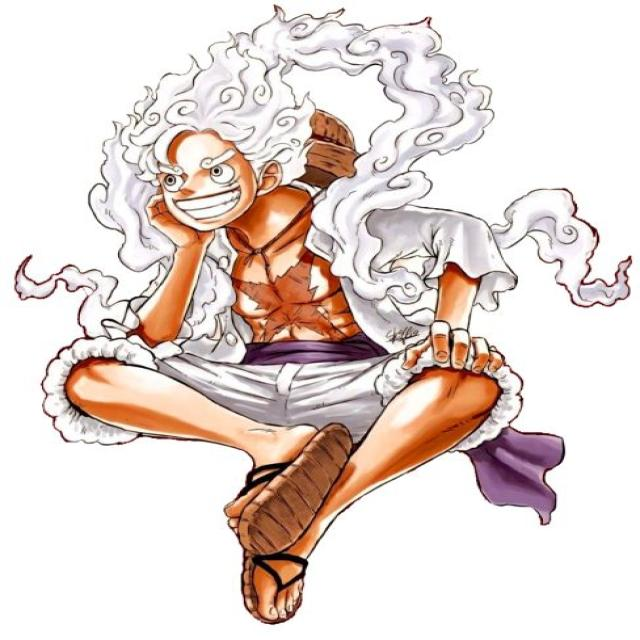luffy: (43, 6, 628, 622)
